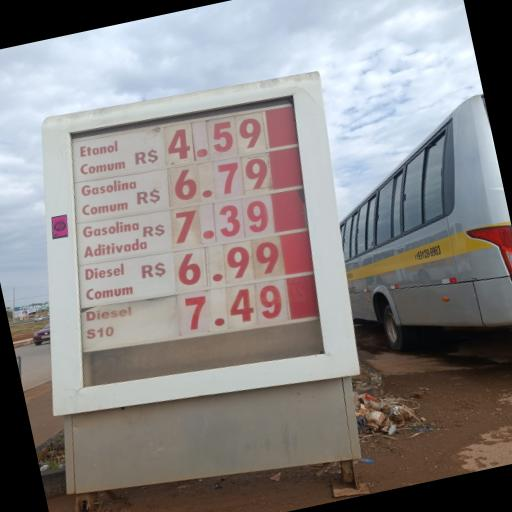ETANOL: (77, 133, 130, 177)
GASOLINA AD: (78, 219, 155, 260)
GASOLINA C: (76, 174, 137, 218)
S10: (76, 299, 144, 347)
S500: (79, 260, 141, 305)
placa: (58, 91, 323, 370)
preco: (162, 104, 272, 168), (177, 278, 290, 337), (169, 146, 283, 201), (170, 191, 279, 244), (177, 233, 284, 286)
